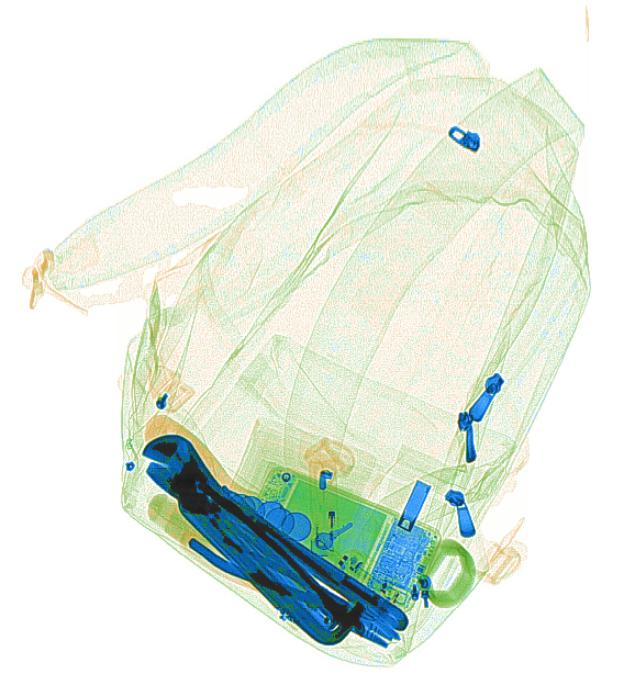lighter: (306, 458, 342, 553)
